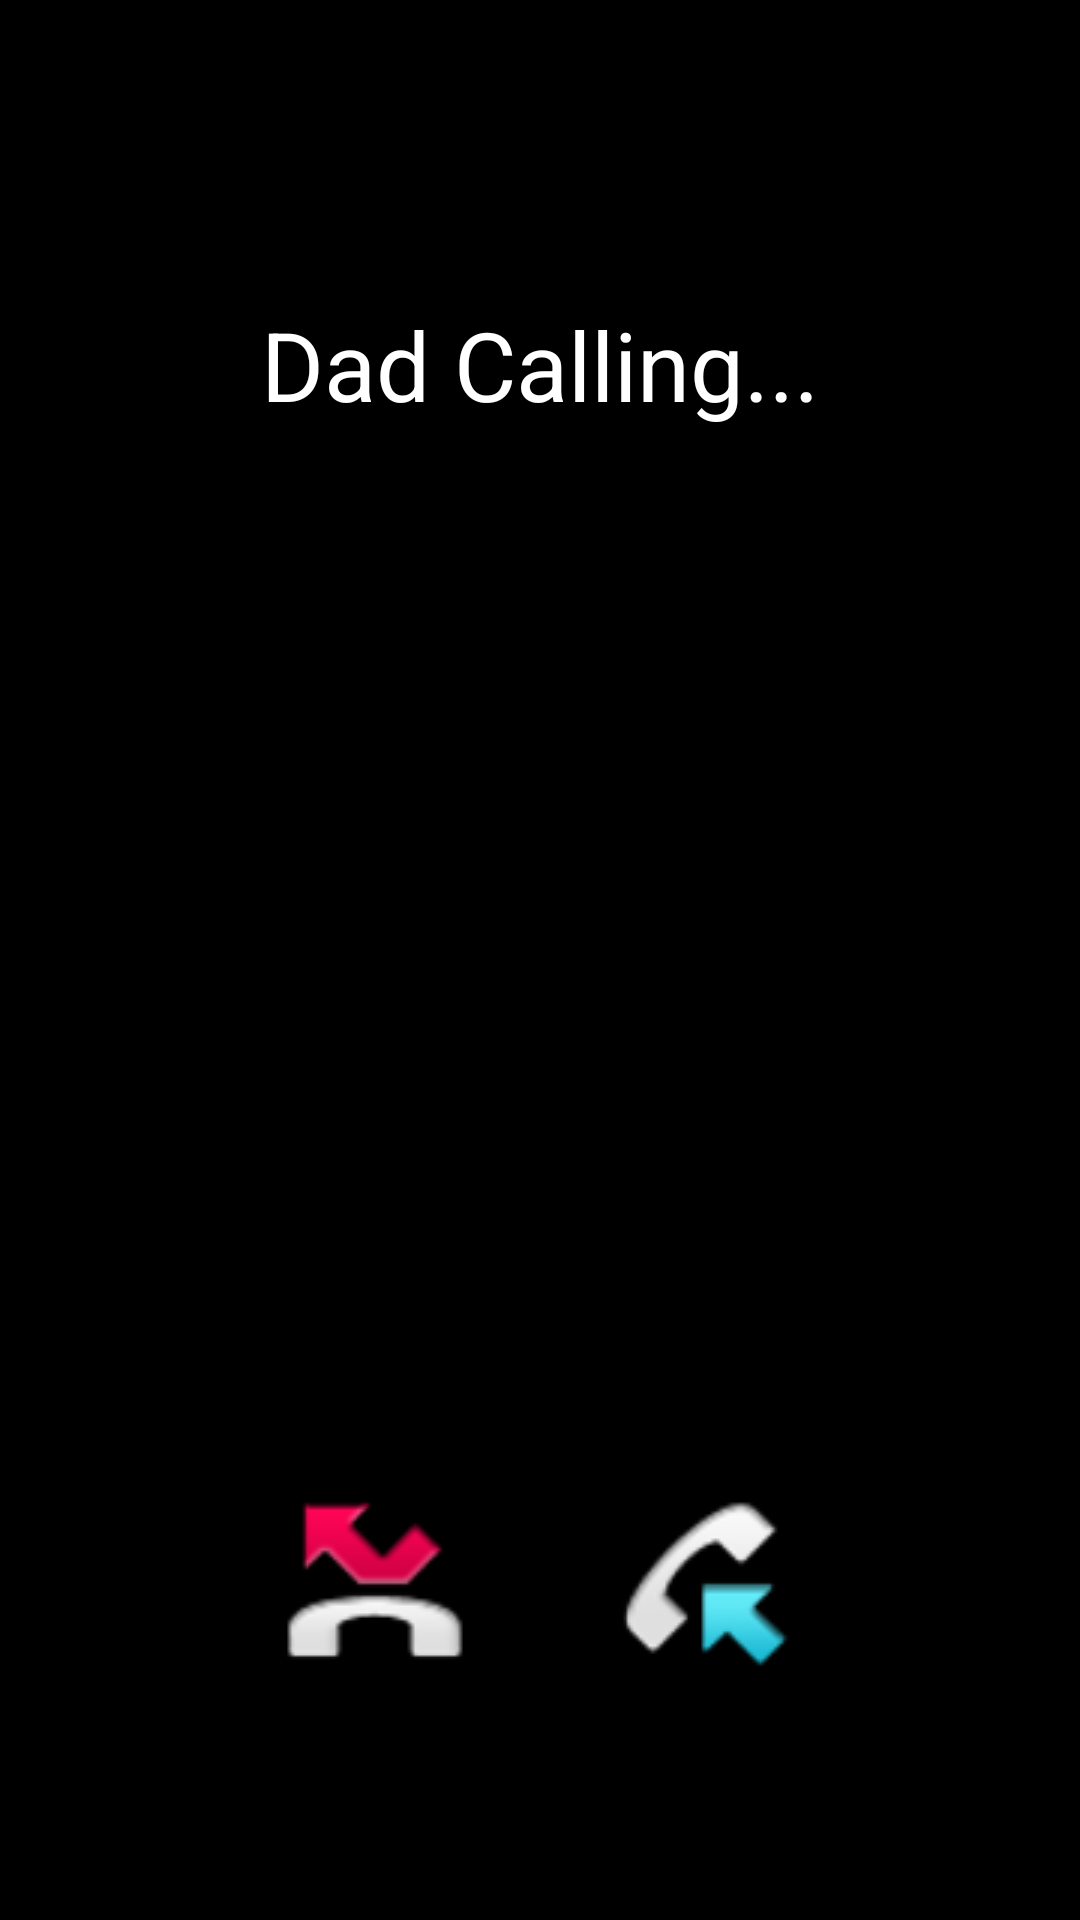

Point at icon controls on the screen. Image size 1080 × 1920, points as (x,y).
sym call incoming: (705,1584)
sym call missed: (375,1579)
